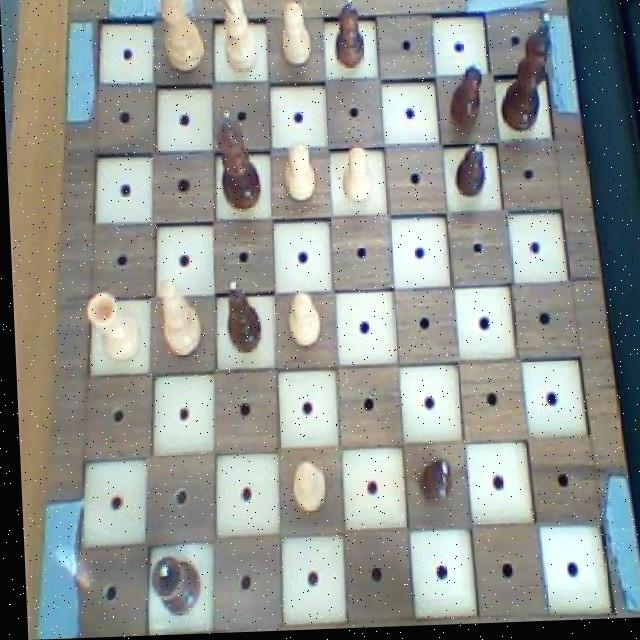bishop: (219, 274, 261, 359)
black-bishop: (493, 16, 556, 136)
black-knight: (444, 59, 484, 136), (329, 0, 366, 75), (409, 457, 453, 512), (450, 145, 488, 205)
black-pawn: (209, 108, 263, 217)
black-queen: (144, 553, 199, 618)
black-rook: (153, 276, 202, 363), (215, 0, 257, 77)
white-bishop: (156, 0, 208, 76)
white-knight: (274, 139, 318, 207), (284, 459, 325, 519), (282, 293, 320, 354), (335, 145, 372, 207)
white-queen: (79, 289, 140, 365)
